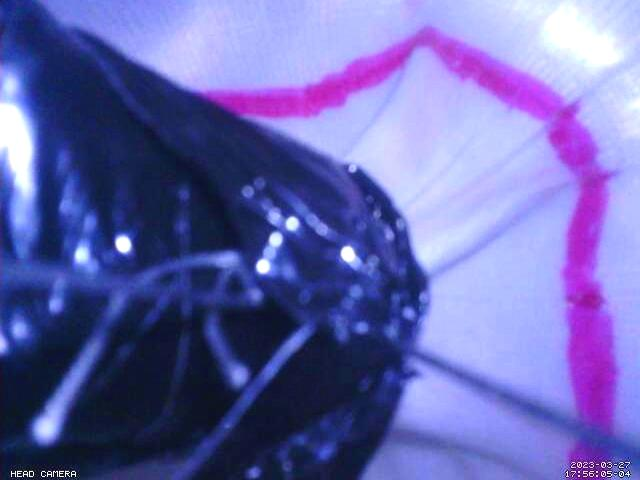red-circle: (200, 25, 622, 480)
